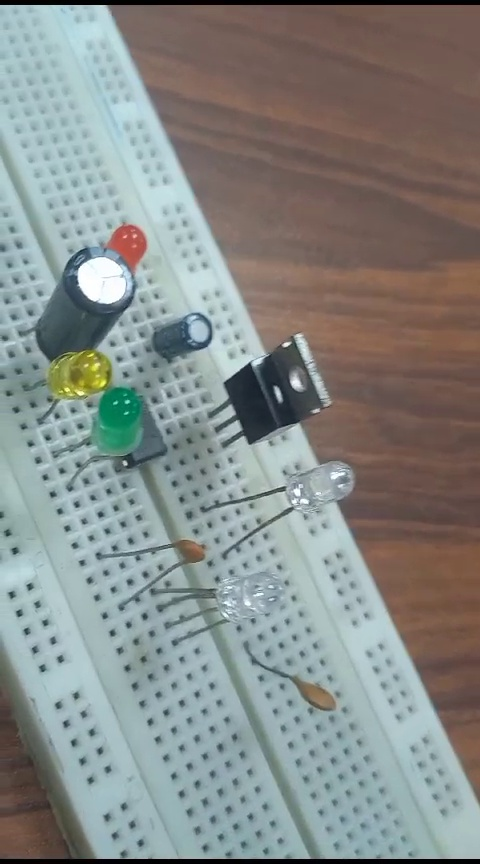IC: (140, 420, 179, 457)
LED: (194, 465, 383, 524), (152, 571, 298, 637), (39, 357, 122, 397), (86, 399, 139, 457), (98, 219, 156, 260)
capacitor: (39, 261, 148, 347), (156, 311, 220, 360)
ceramic capacitor: (238, 647, 362, 731), (99, 531, 207, 581)
voltage regulator: (223, 336, 359, 449)
